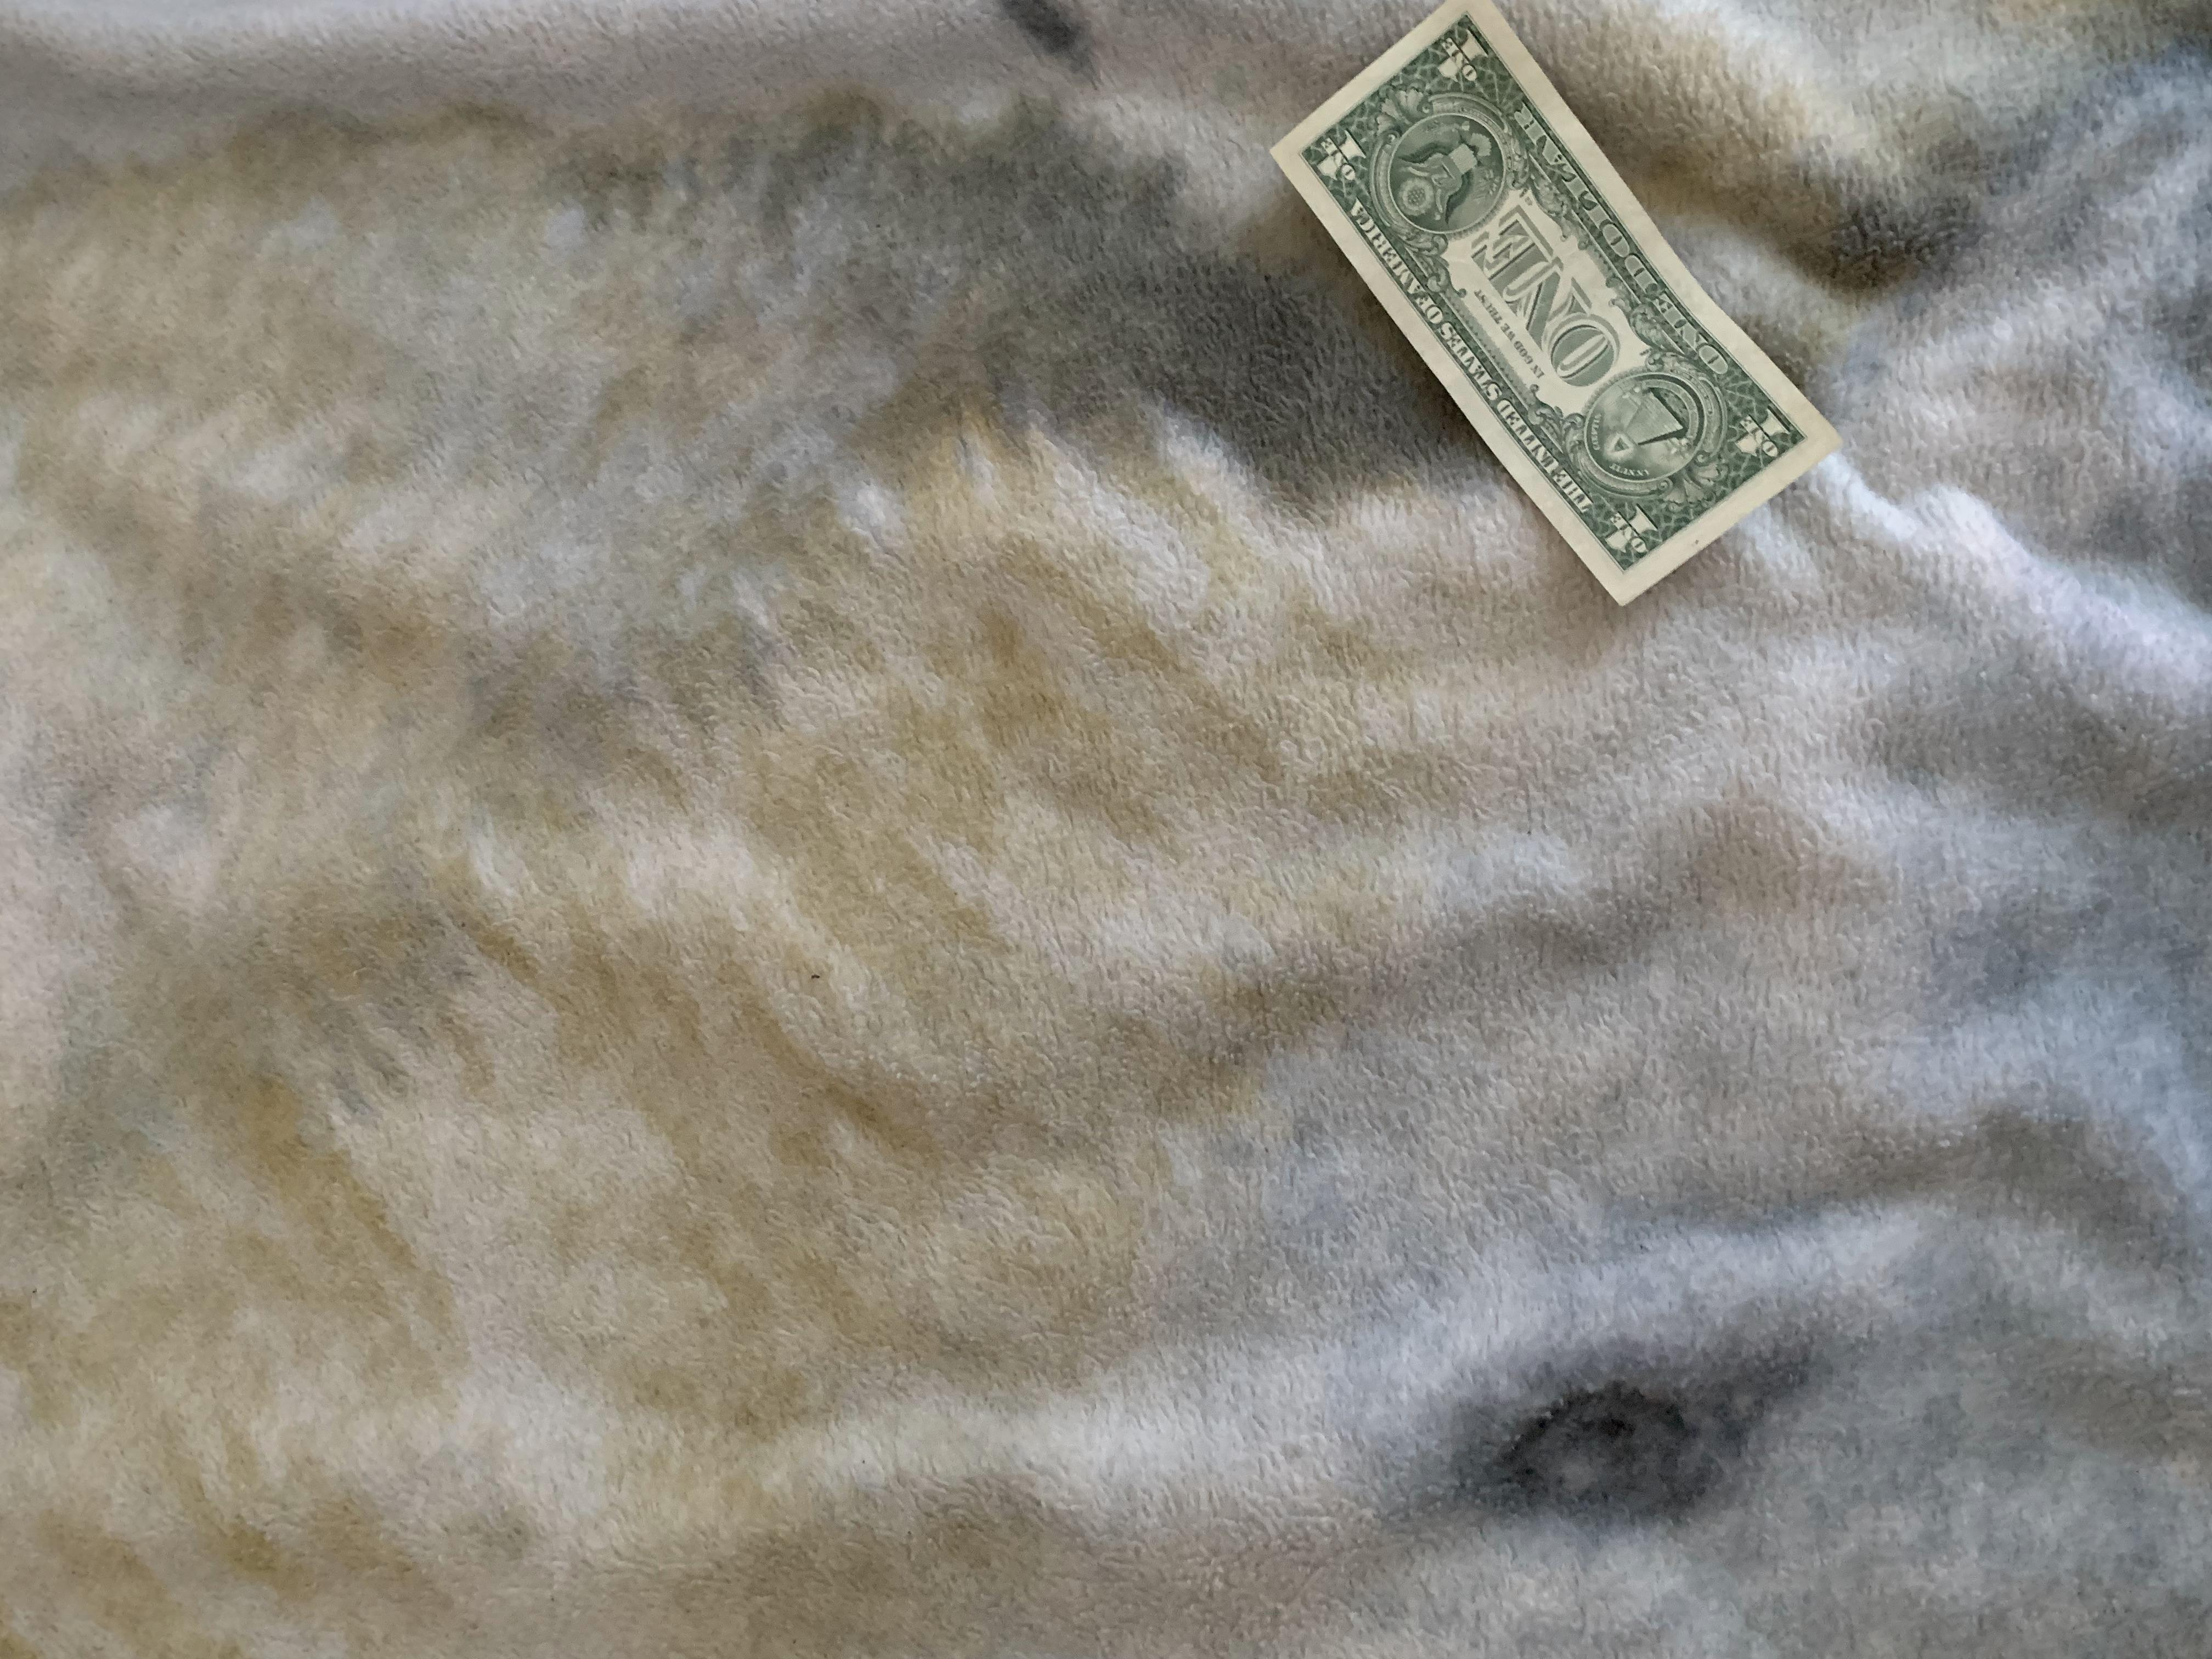OneBill: (1275, 2, 1850, 601)
